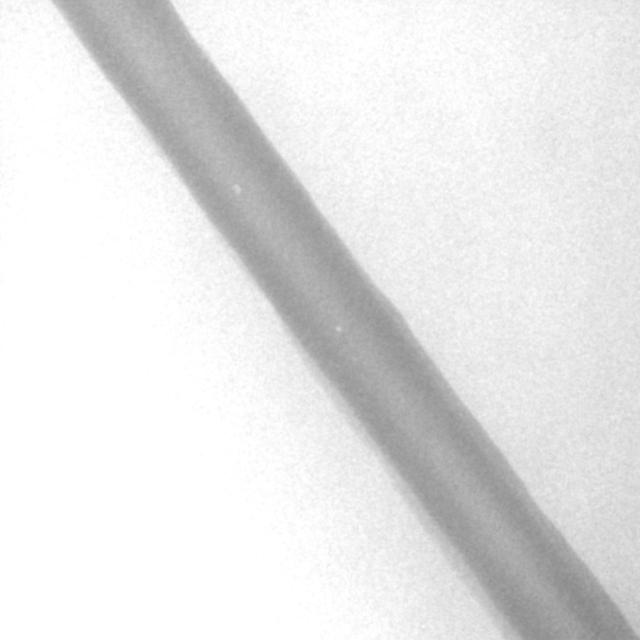air-hole: (234, 186, 244, 200), (334, 324, 340, 331)
